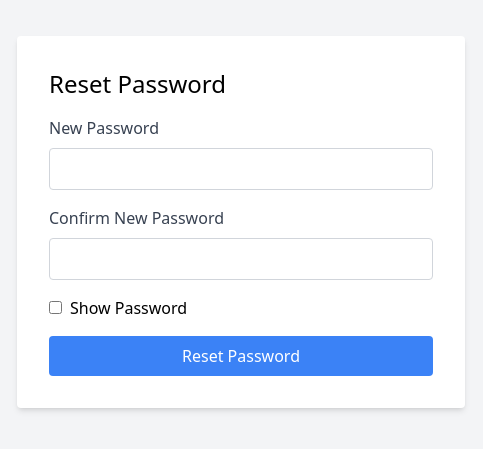
Test case: ResetPasswordPage › shows error when passwords do not match
The width and height of the screenshot is (483, 449).
Type "password123" into the password field labelled "New Password".
click(241, 169); type("password123")  # box [49,148,433,190]
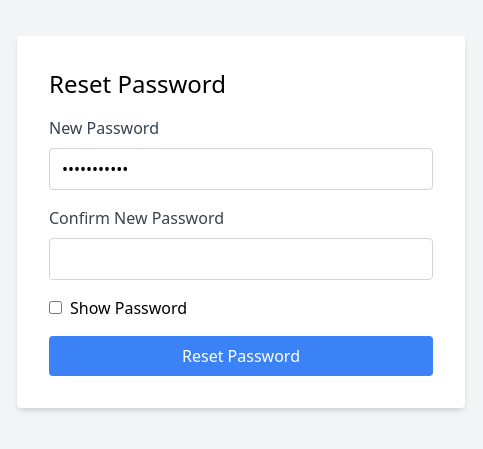
Type "password456" into the password field labelled "Confirm New Password".
click(241, 259); type("password456")  # box [49,238,433,280]
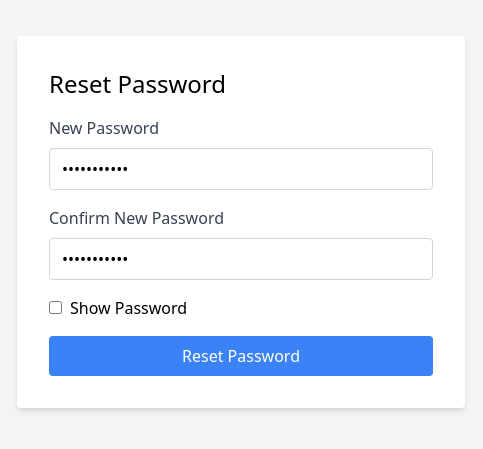
Click the button "Reset Password".
click(241, 356)  # box [49,336,433,376]
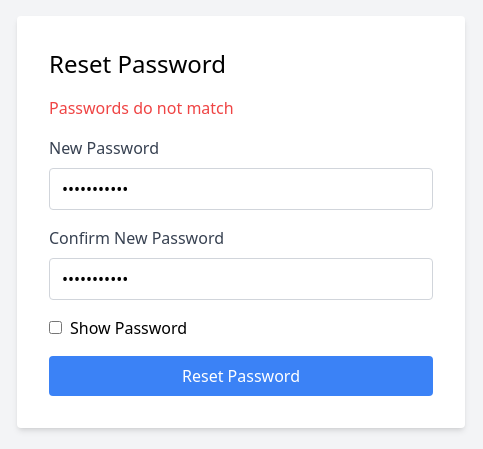
Check: the text "Passwords do not match" is shown, box [49,97,234,119]
